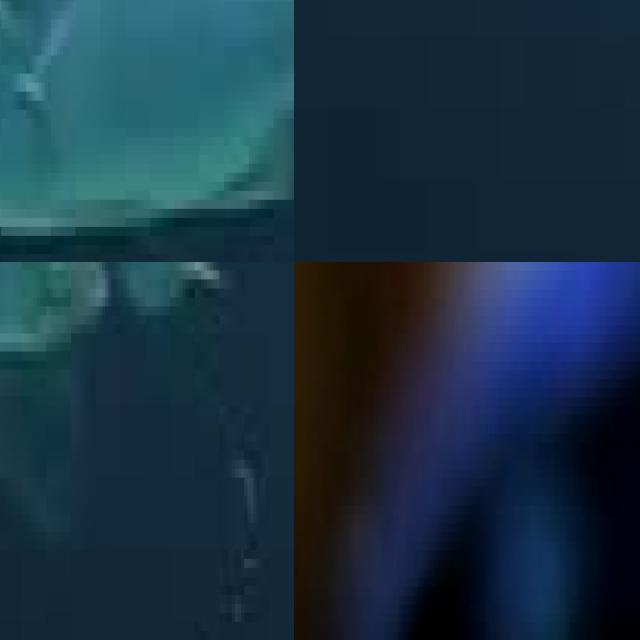fish: (325, 262, 640, 640), (0, 0, 294, 262)
